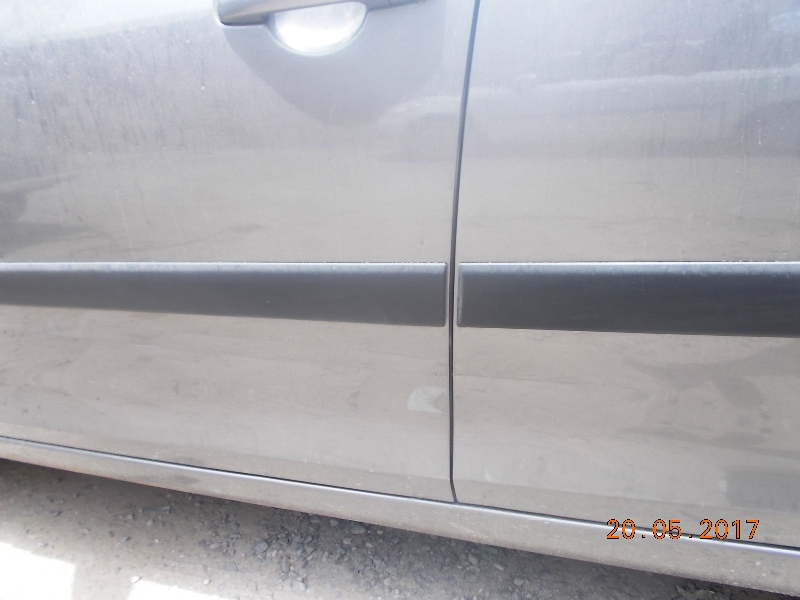Dent: (93, 205, 198, 335)
